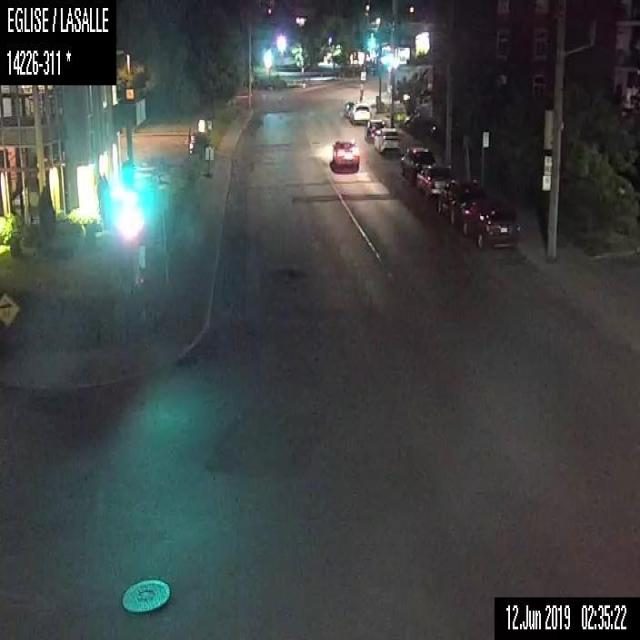vehicle: (459, 199, 520, 251), (435, 178, 481, 224), (415, 161, 454, 200), (399, 145, 435, 182), (329, 137, 359, 172), (372, 127, 400, 157), (364, 117, 386, 140), (349, 101, 370, 123), (342, 101, 357, 118)
